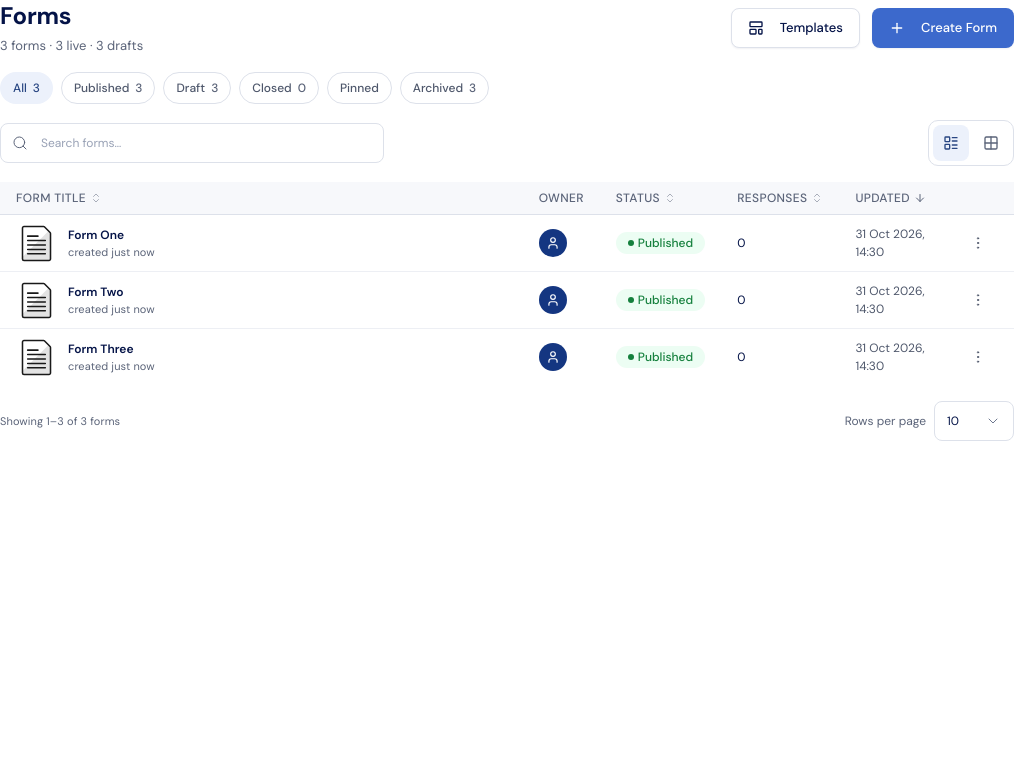
Test case: WorkspaceFormsPage — FormsPage rendered with workspace context › bulk selection and delete (task 6.4) › a single row selected via checkbox also uses the lighter bulk-confirm flow, not the typed-title one
Double-click the link "Form One".
double_click(96, 235)  # box [68,226,124,244]
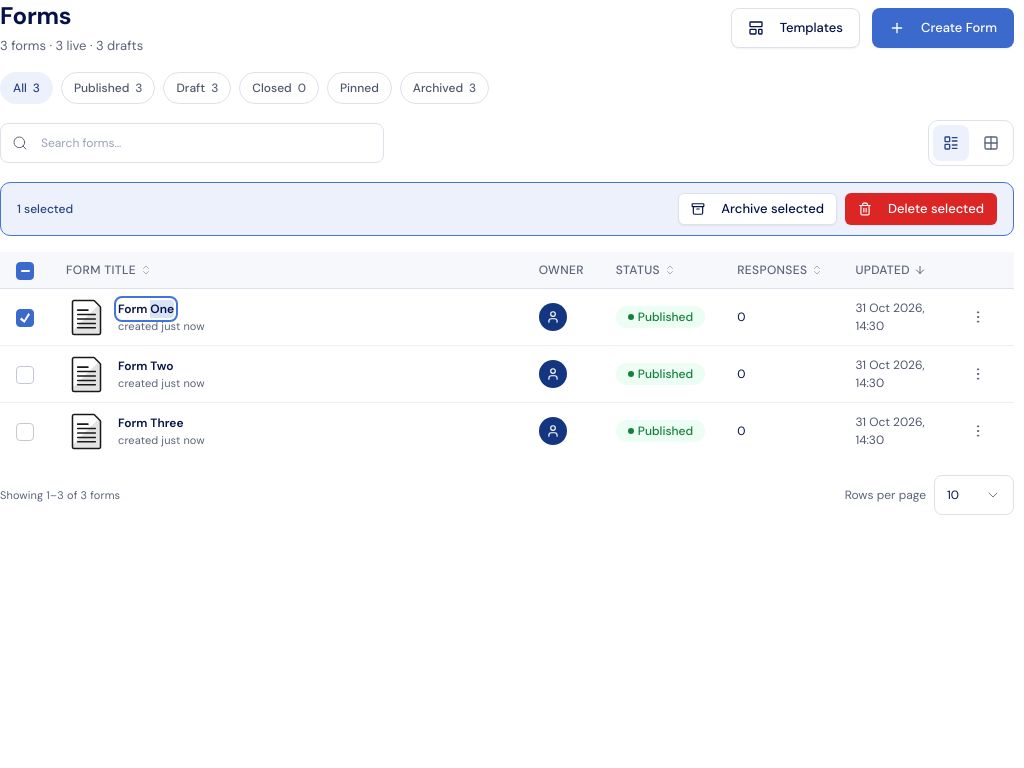
Click the button "Delete selected".
click(921, 209)  # box [845,193,997,225]
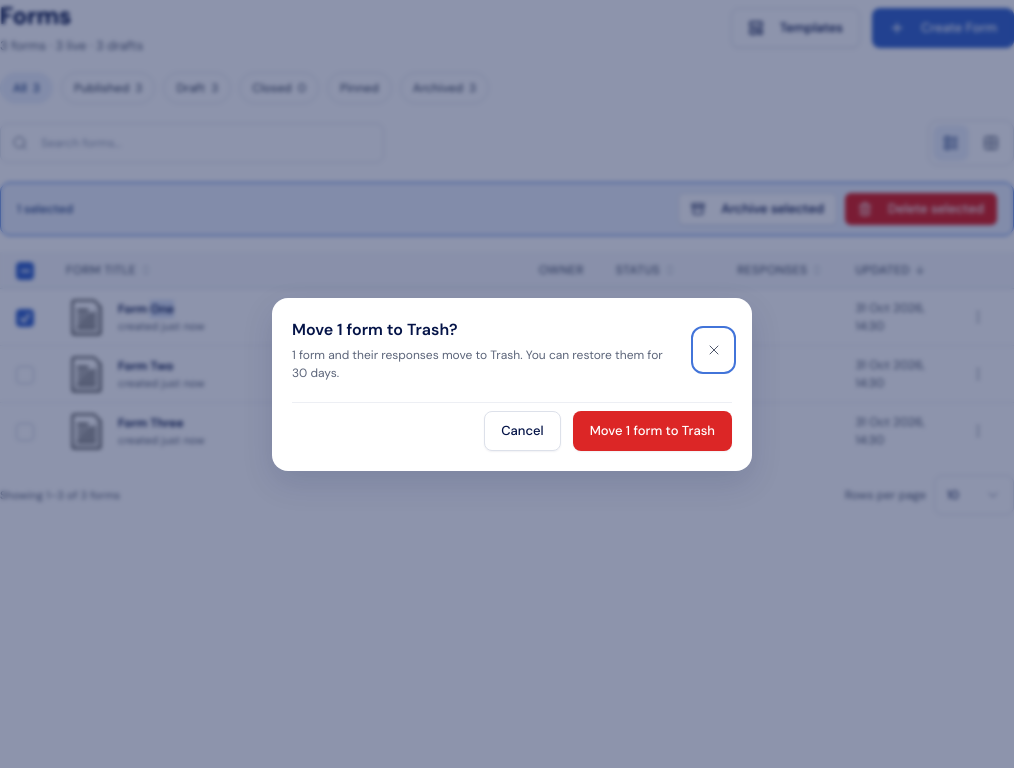
Expected: the heading "Move 1 form to Trash?" is shown, [292,318,458,340]
Expected: the button "Move 1 form to Trash" is enabled, [573,410,732,450]
